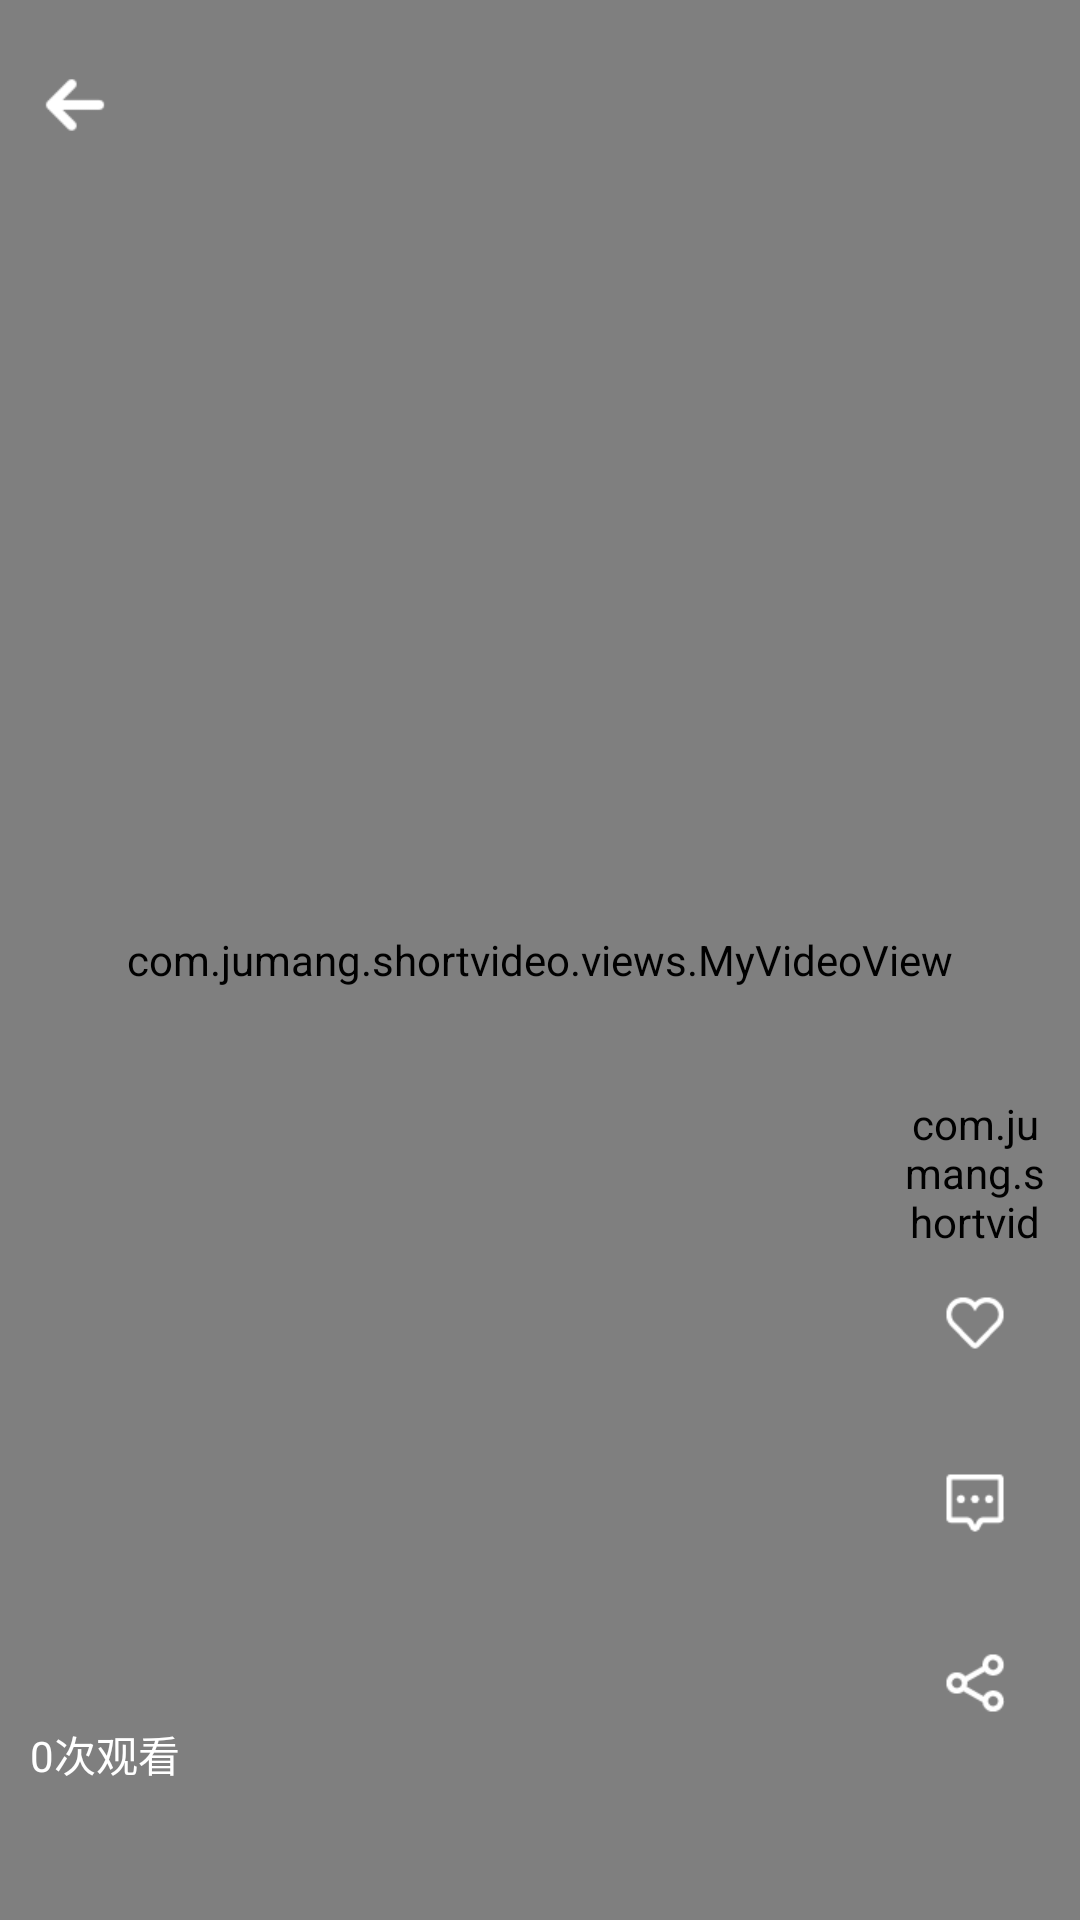

Screen size 1080px×1920px. Icon name, then its box in pixels as box=[x1, y1, x2, y2]:
left: box=[46, 79, 104, 131]
